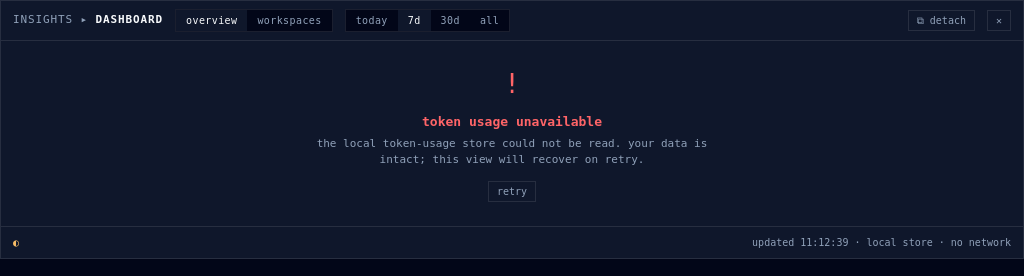
Test: InsightsDashboard › a USAGE read failure blames token usage, not the insights database
This screenshot has width=1024, height=276.
Expected: the text "token usage unavailable" is shown, [422,114,602,129]
Expected: the text "the local token-usage store could not be read" is shown, [317,136,707,166]
// Retry recovers, and the copy does not linger once it does.
What coordinates should you click on to do the following:
click the button "retry"
I would click on:
 (512, 191)
Its box is [488,180,536,202].
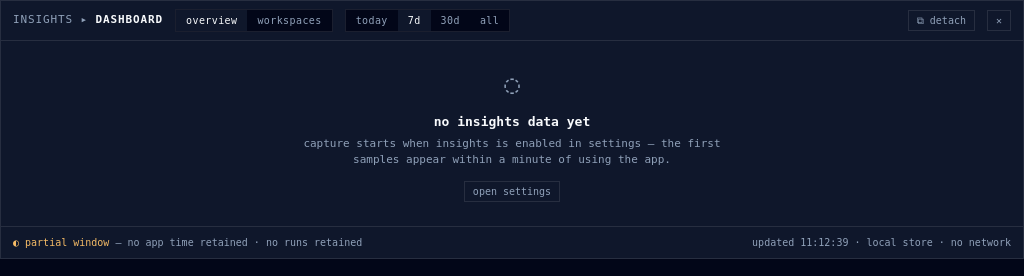
Now the text "token usage unavailable" is gone
